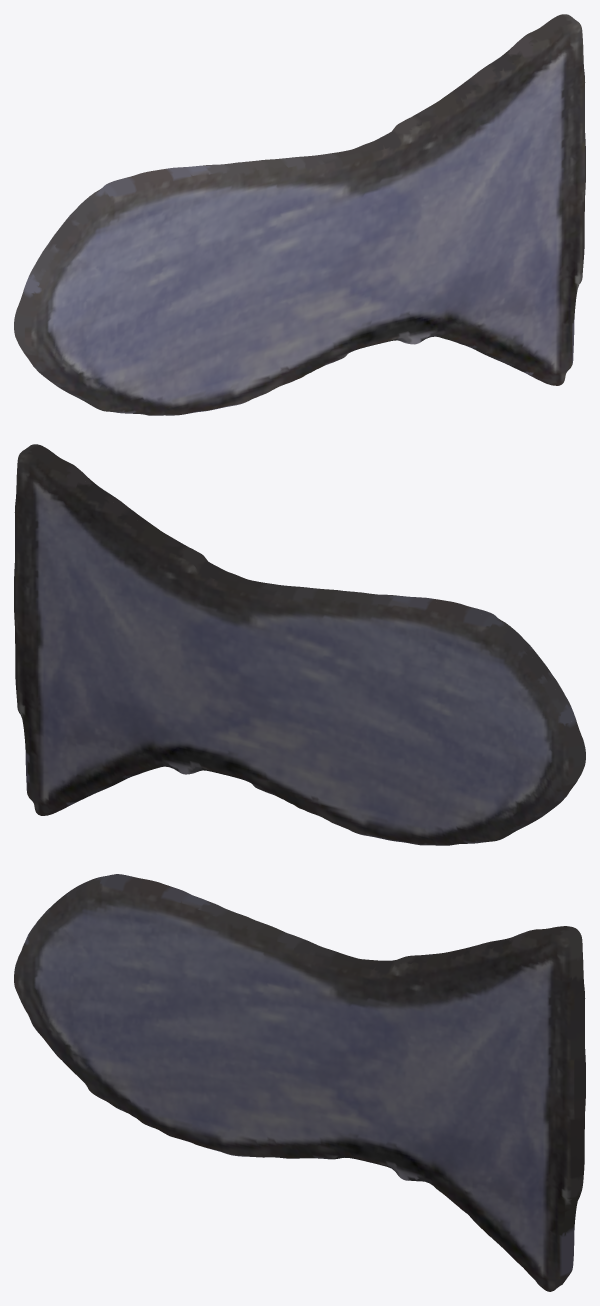
Rendered from fish_2.glb.
3 views of the same model, one above another, from view 1: azimuth 30°, elevation 25°; view 2: azimuth 150°, elevation 25°; view 3: azimuth 330°, elevation 25° (orthographic).
Bounding box in the file's own units: 0.2518 × 0.1535 × 0.0101.
